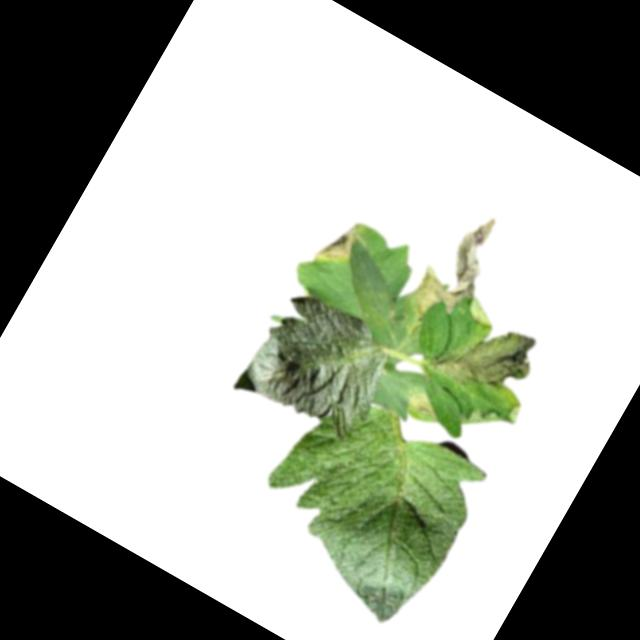Late_blight: (402, 197, 519, 339), (425, 299, 554, 420), (311, 208, 371, 275), (402, 384, 446, 424)
healthy: (232, 375, 496, 637), (231, 280, 406, 451)
